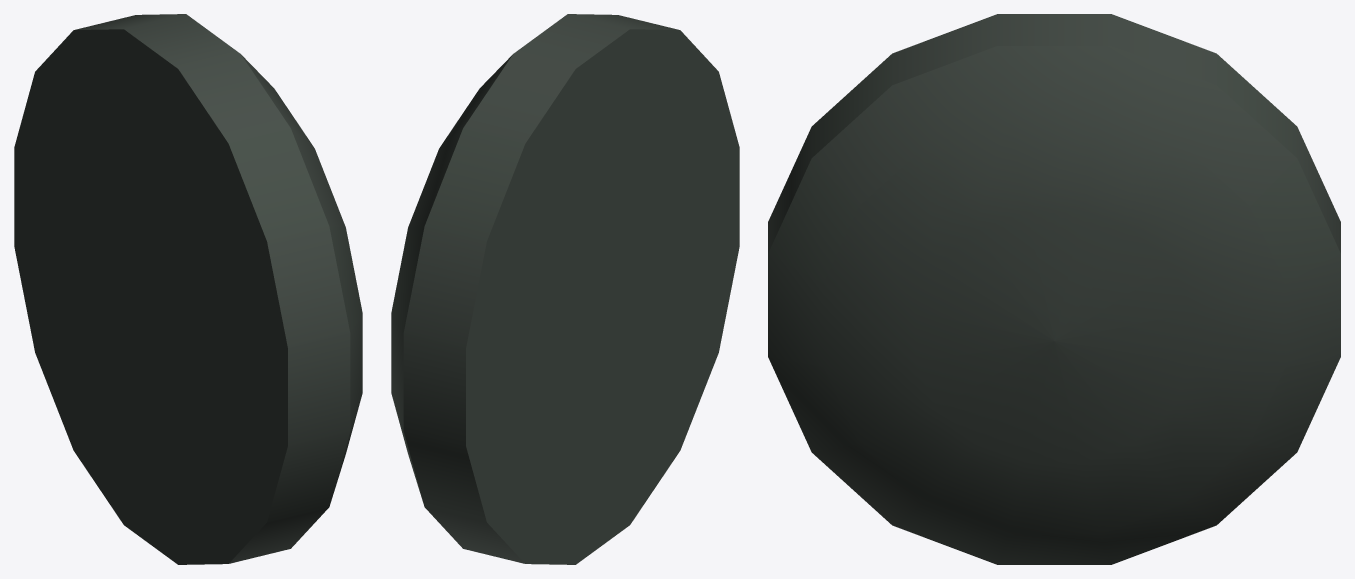
The model's file is lamp_off.obj.
The picture shows the model from 3 angles, left to right: view 1: azimuth 30°, elevation 25°; view 2: azimuth 150°, elevation 25°; view 3: azimuth 270°, elevation 25°; orthographic projection. The views are drawn at different scales.
Parts seen in each view (by area): view 1: lamp_off_lens; view 2: lamp_off_lens; view 3: lamp_off_lens.
Part boxes in pixels (left/top/right/bottom): lamp_off_lens: left=14, top=14, right=362, bottom=564; lamp_off_lens: left=391, top=14, right=739, bottom=564; lamp_off_lens: left=768, top=14, right=1340, bottom=564.
Bounding box in the file's own units: 0.0212 × 0.076 × 0.076.
